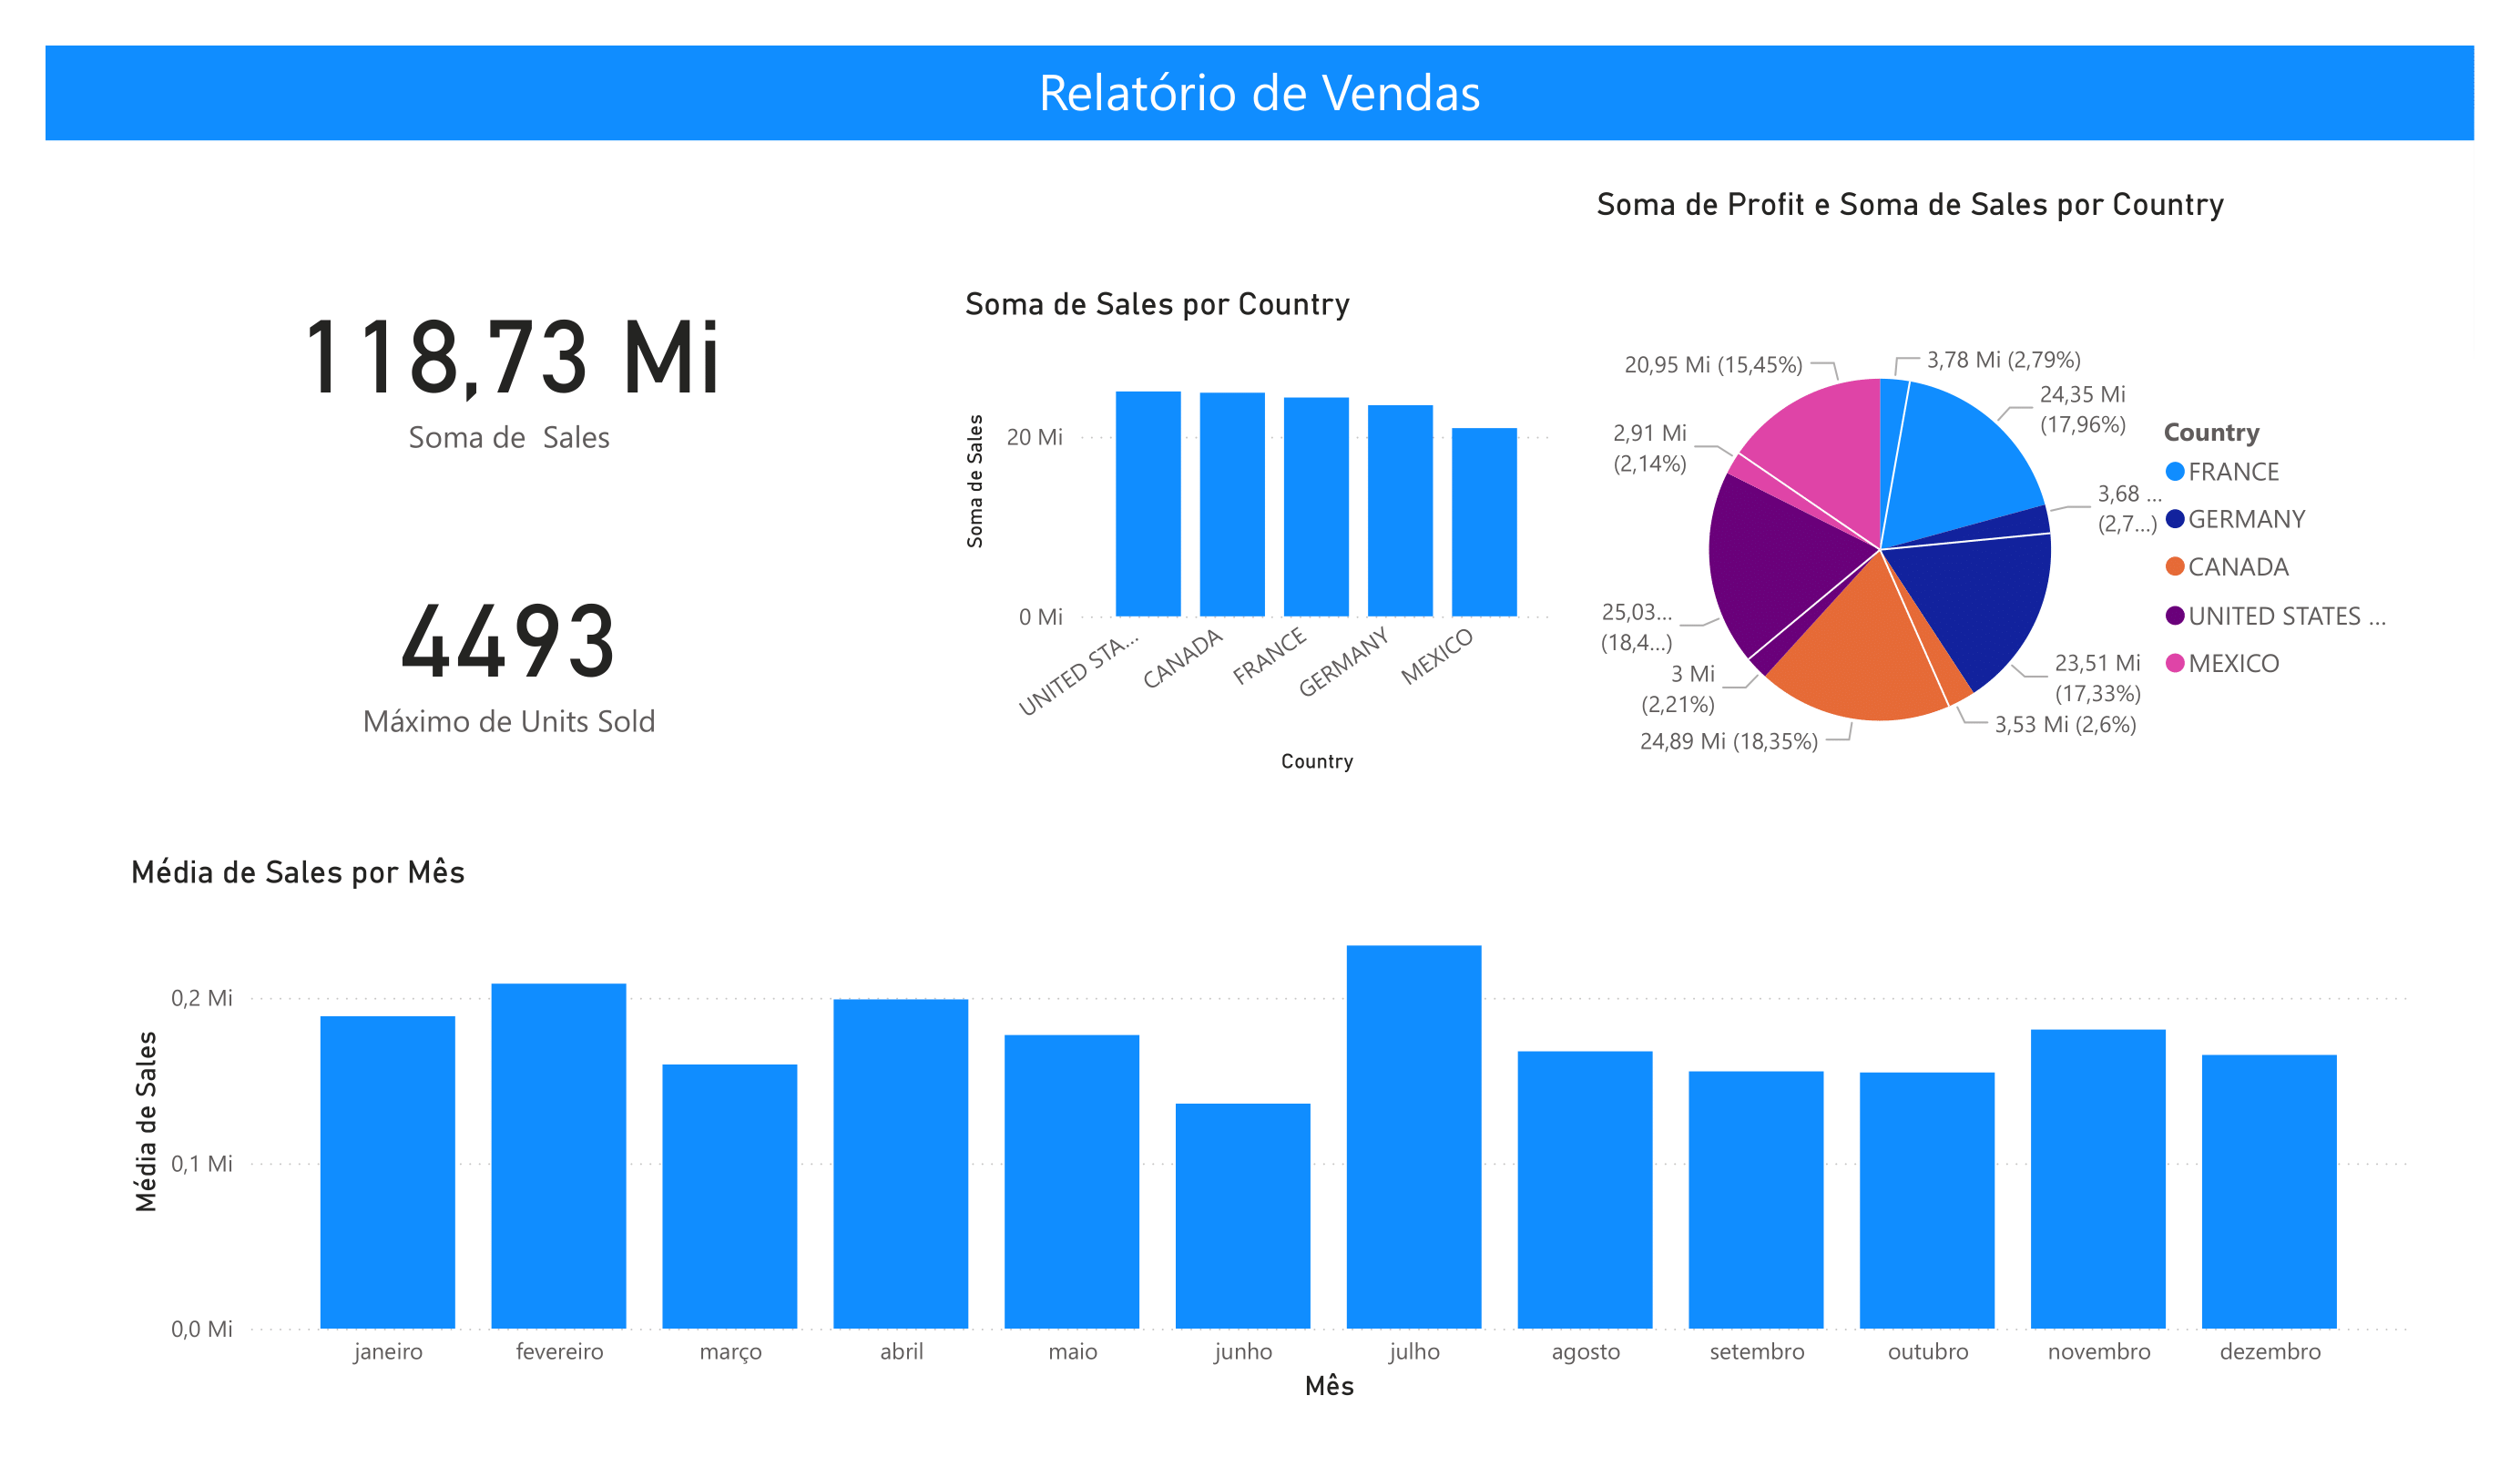

The page's visual inventory and layout, read from the dashboard file:
{"tool":"powerbi","page":{"name":"Página 2","canvas":[1280,720],"ordinal":1},"visuals":[{"type":"textbox","box":[0,0,1280,50],"z":0},{"type":"card","fields":{"Values":["Sum(financials. Sales)"]},"box":[26,92,438,150],"z":1000},{"type":"card","fields":{"Values":["Max(financials.Units Sold)"]},"box":[26,242,438,150],"z":2000},{"type":"pieChart","fields":{"Y":["Sum(financials.Profit)","Sum(financials. Sales)"],"Category":["financials.Country"]},"box":[812,74,438,366],"z":3000},{"type":"clusteredColumnChart","fields":{"Y":["Avg(financials. Sales)"],"Category":["financials.Date.Variation.Hierarquia de datas.Mês"]},"box":[40,426,1210,294],"z":4000},{"type":"clusteredColumnChart","fields":{"Category":["financials.Country"],"Y":["Sum(financials. Sales)"]},"box":[480,126,320,262],"z":5000}]}

Visuals, with their boxes in screenshot pixels (x1, y1, x2, y2):
textbox: (left=46, top=46, right=2474, bottom=140)
card - Sum(financials. Sales): (left=95, top=220, right=926, bottom=504)
card - Max(financials.Units Sold): (left=95, top=504, right=926, bottom=790)
pieChart - Sum(financials.Profit) x Sum(financials. Sales): (left=1586, top=186, right=2417, bottom=881)
clusteredColumnChart - Avg(financials. Sales) x financials.Date.Variation.Hierarquia de datas.Mês: (left=121, top=854, right=2417, bottom=1411)
clusteredColumnChart - financials.Country x Sum(financials. Sales): (left=956, top=284, right=1564, bottom=781)
